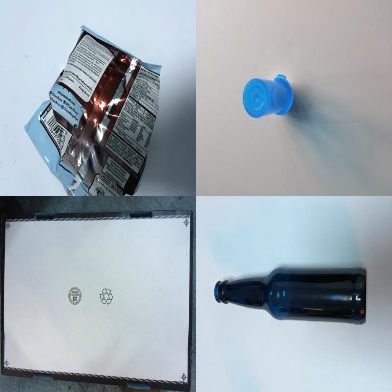cardboard: (1, 211, 192, 390)
glass: (213, 267, 367, 326)
plastic: (242, 75, 295, 118)
trash: (24, 25, 163, 196)
